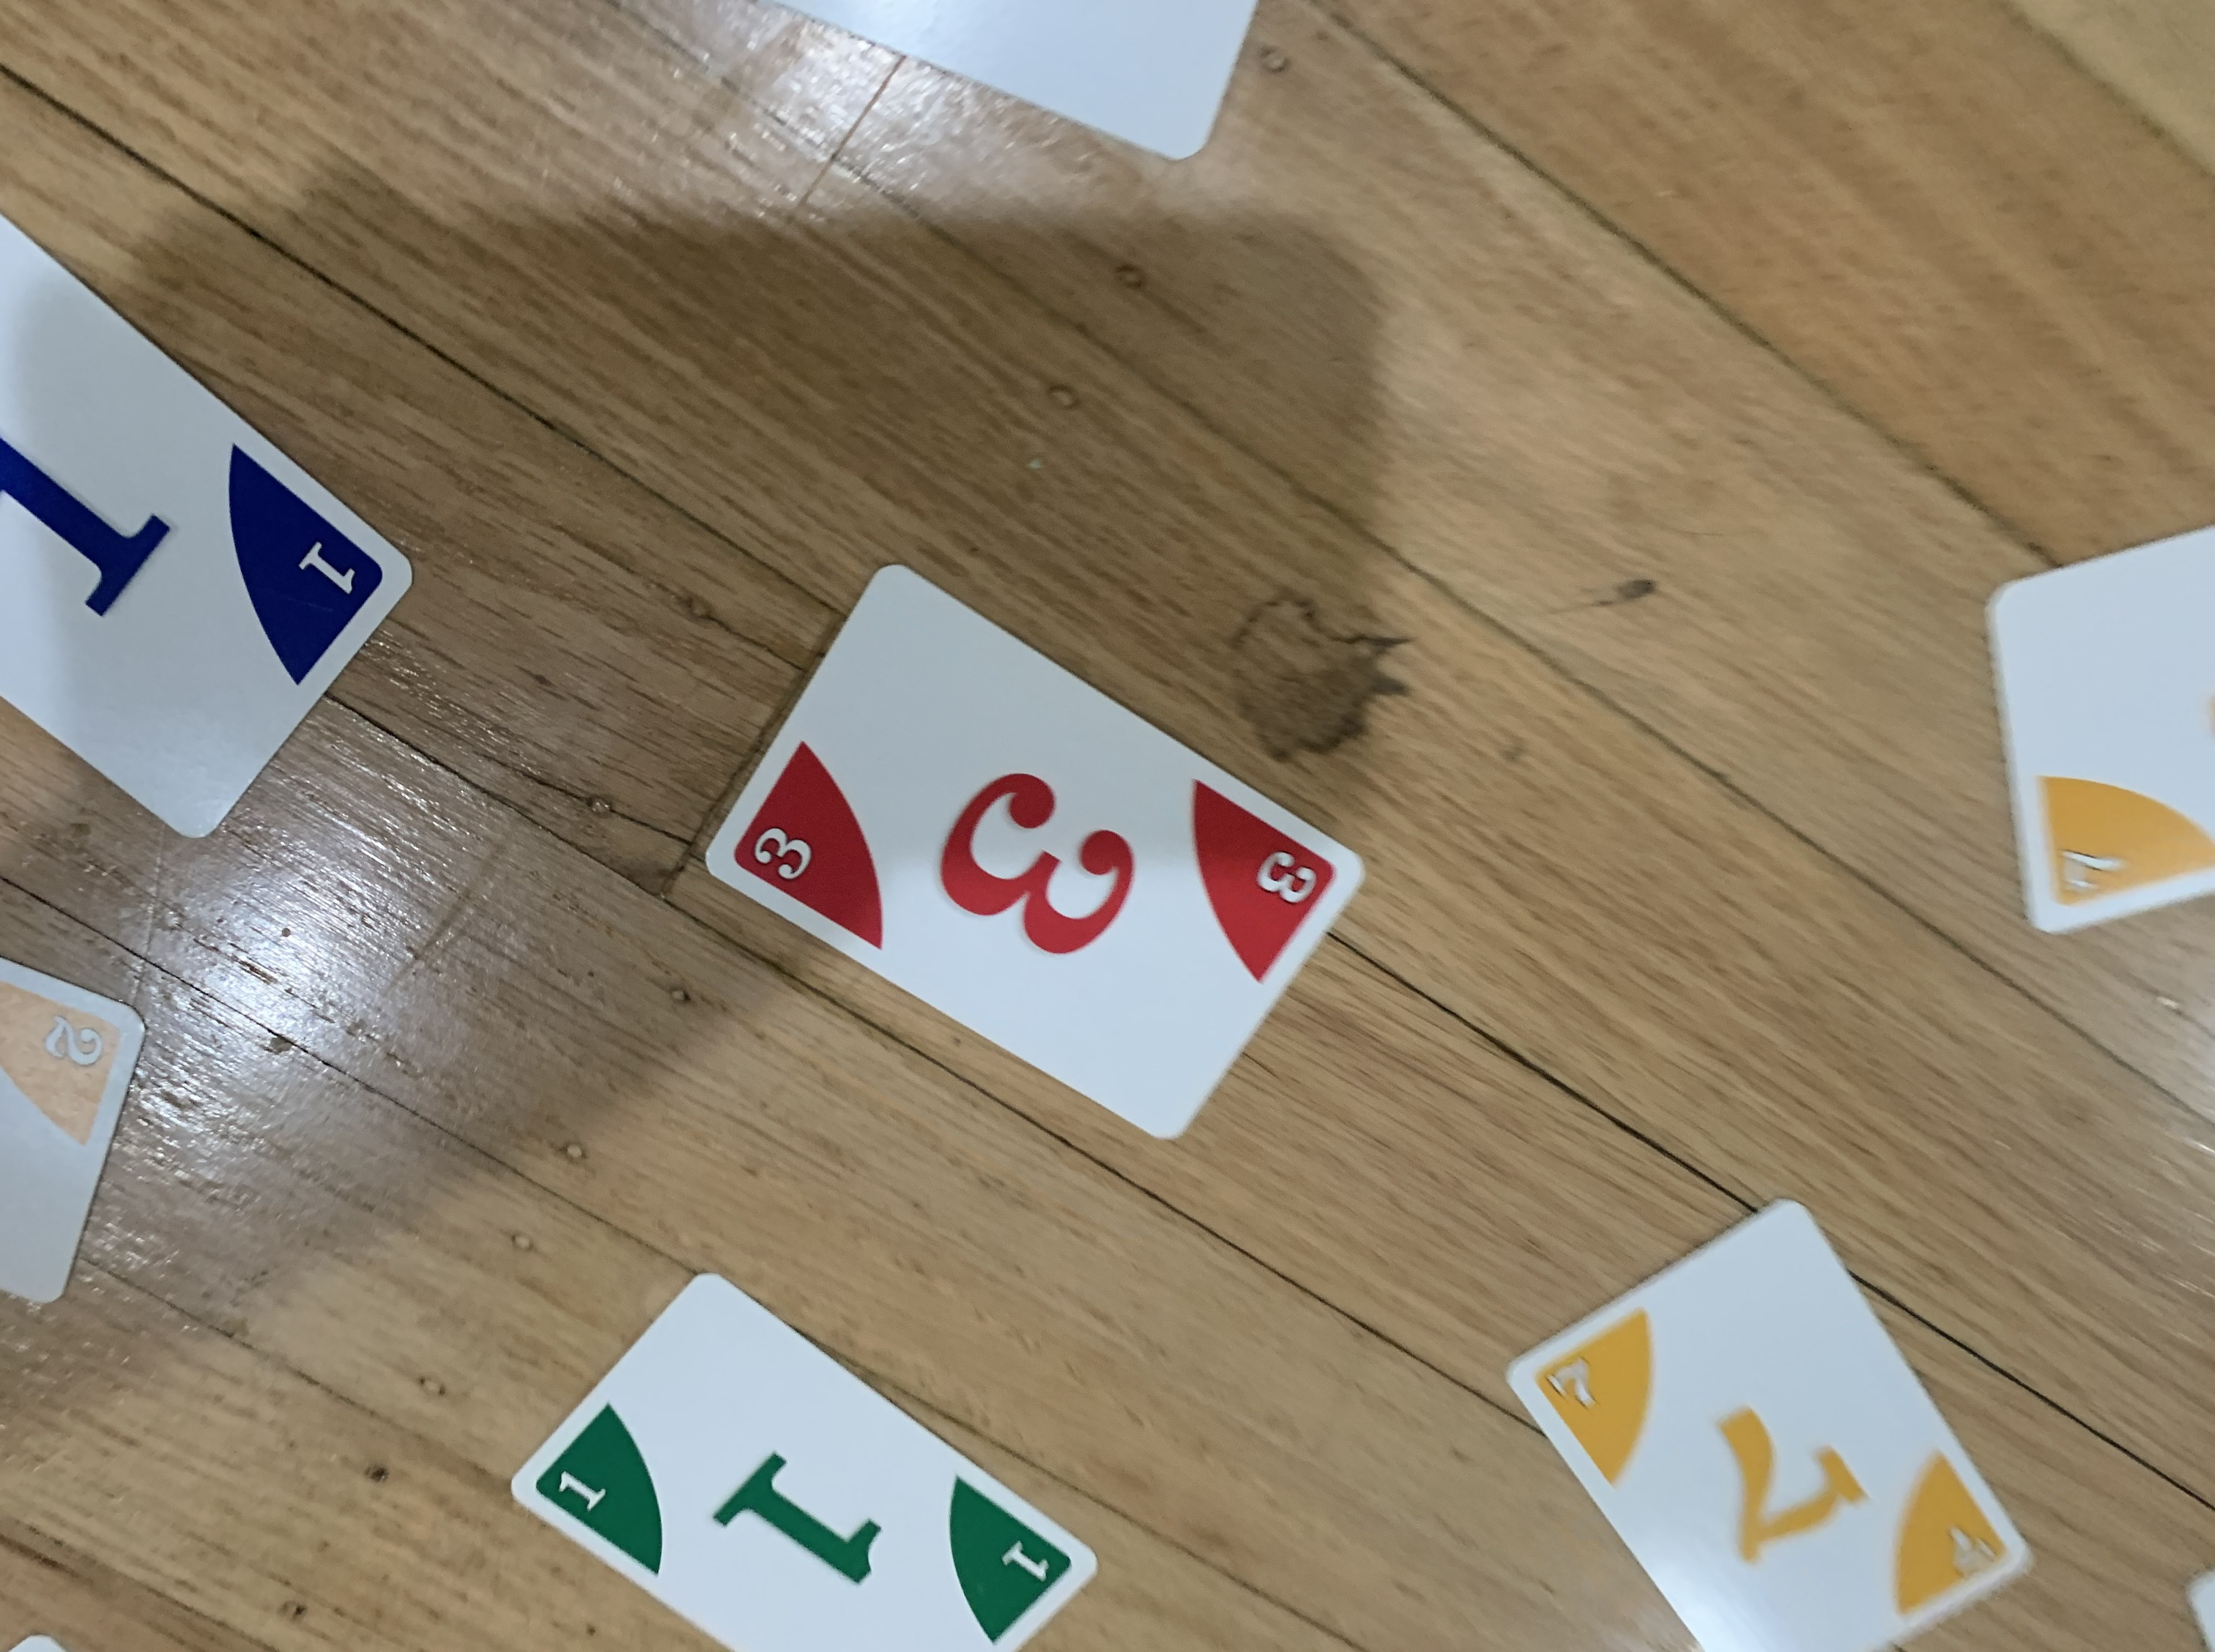one: (484, 1256, 1104, 1652)
seven: (1481, 1175, 2047, 1647)
three: (693, 559, 1371, 1147)
